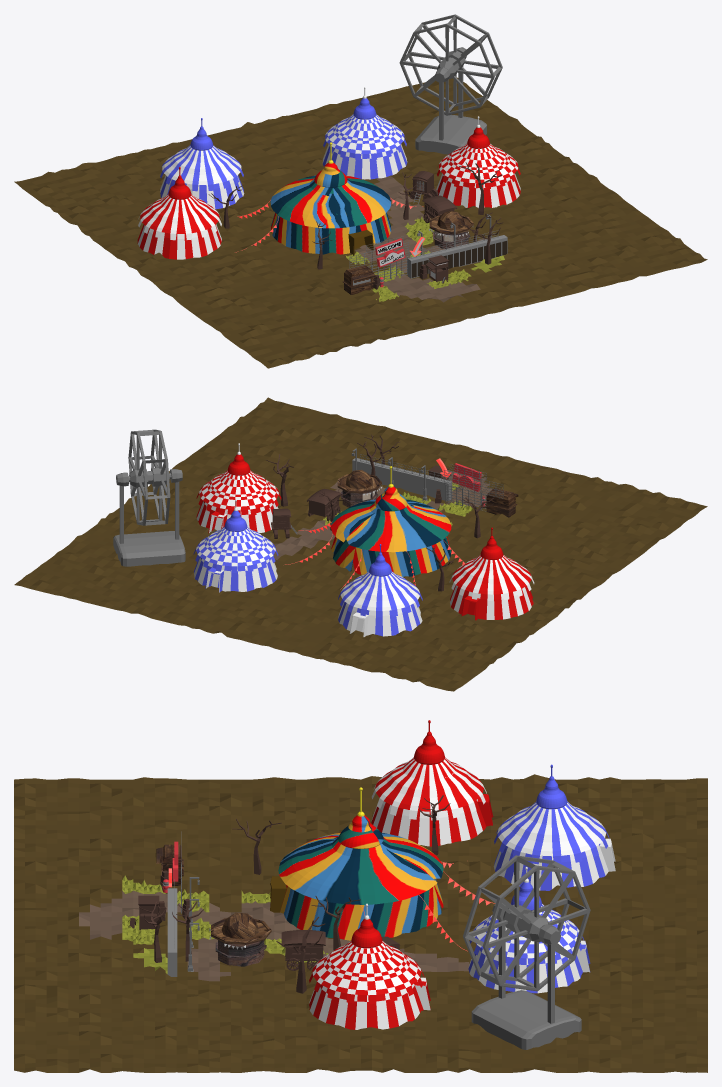
File: OpeningScene.fbx
The picture shows the model from 3 angles, top to bottom: view 1: azimuth 30°, elevation 25°; view 2: azimuth 150°, elevation 25°; view 3: azimuth 270°, elevation 25°; orthographic projection. The views are drawn at different scales.
Visible parts, largest first — view 1: Floor, BigTent_Cylinder.006, StripeTent, CheckTent2, CheckTent, MerryGo, StripeTent2, MerryGoBase, Wall, Building1, Store; view 2: Floor, BigTent_Cylinder.006, StripeTent, CheckTent2, StripeTent2, CheckTent, MerryGoBase, MerryGo, Wall, Building1, Store, Carriage2 (+1 smaller); view 3: Floor, BigTent_Cylinder.006, CheckTent, StripeTent, StripeTent2, MerryGo, MerryGoBase, CheckTent2, Building1, Carriage2, Wall, Store (+2 smaller).
Boxes of the visible parts, x1,y1,x2,y2 form: Floor: (14,77,707,368); BigTent_Cylinder.006: (270,142,391,255); StripeTent: (137,167,221,259); CheckTent2: (322,87,407,179); CheckTent: (436,116,520,207); MerryGo: (399,14,502,115); StripeTent2: (160,118,244,209); MerryGoBase: (415,47,486,154); Wall: (407,235,507,278); Building1: (429,210,473,248); Store: (342,265,375,294); Floor: (14,397,707,691); BigTent_Cylinder.006: (330,466,451,576); StripeTent: (449,527,534,620); CheckTent2: (193,499,278,592); StripeTent2: (338,544,422,636); CheckTent: (196,443,281,533); MerryGoBase: (113,469,185,566); MerryGo: (128,429,171,525); Wall: (352,458,452,501); Building1: (337,469,381,507); Store: (485,488,518,517); Carriage2: (307,488,341,516); Floor: (14,774,707,1072); BigTent_Cylinder.006: (270,787,443,940); CheckTent: (309,903,430,1029); StripeTent: (371,720,493,846); StripeTent2: (493,764,615,890); MerryGo: (463,855,590,991); MerryGoBase: (471,902,581,1049); CheckTent2: (468,867,590,993); Building1: (211,912,271,966); Carriage2: (281,930,325,960); Wall: (167,888,177,976); Store: (156,844,183,885).
Bounding box in the file's own units: 7287 × 1936 × 7287.
